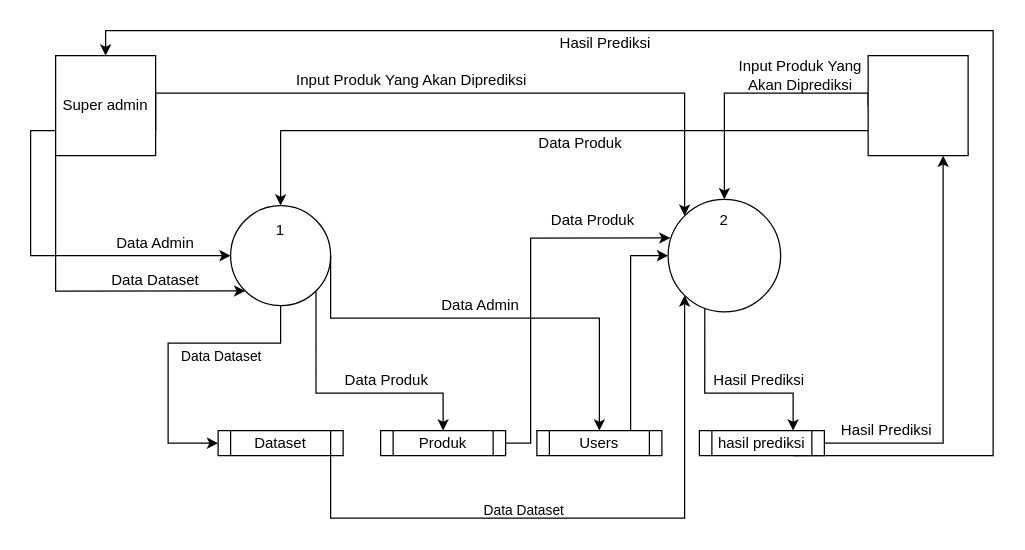
This 1025x550 diagram has some shape labels left out. Here are the shapes that lost their labels. From the top down, the box of each, then its label:
(867, 54, 968, 156): Admin
(229, 204, 331, 306): Pencatatan Data
(667, 198, 781, 312): Prosess prediksi Minat
